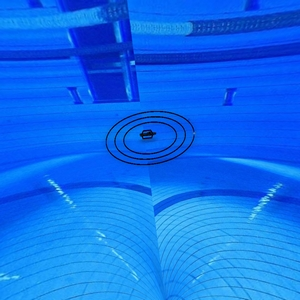circle: (103, 107, 199, 168)
submarine: (137, 128, 159, 142)
